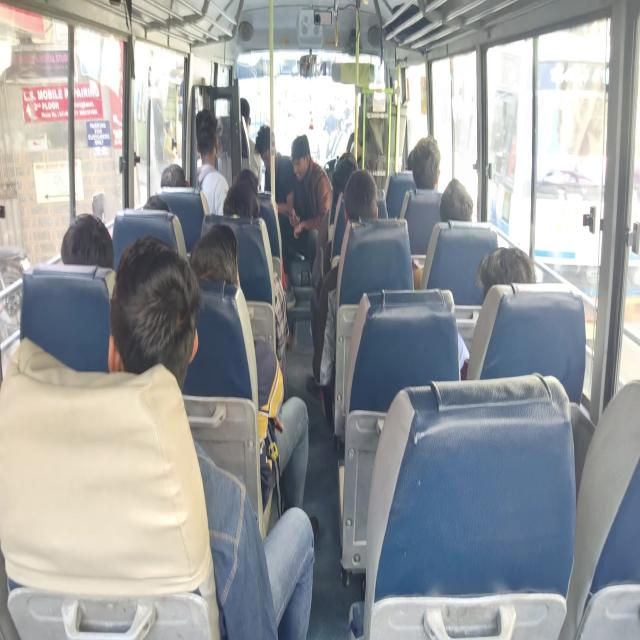person: (111, 258, 184, 379), (187, 221, 242, 322), (469, 230, 533, 296), (67, 200, 116, 266), (222, 165, 260, 229), (128, 175, 174, 225), (438, 159, 469, 216), (413, 130, 439, 184), (252, 124, 280, 174), (202, 103, 225, 157), (156, 150, 184, 190), (342, 153, 368, 184), (352, 181, 373, 216), (237, 96, 254, 125), (296, 136, 308, 174)
